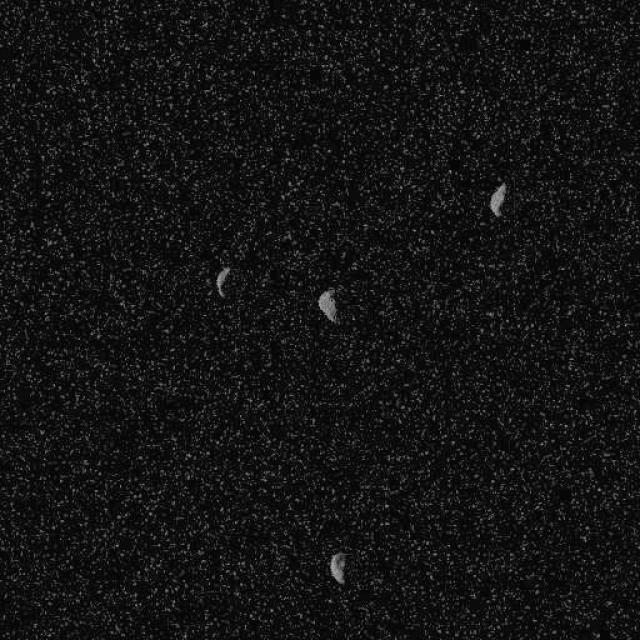D2: (316, 288, 339, 324), (488, 180, 508, 218), (328, 550, 347, 584), (214, 265, 230, 297)
